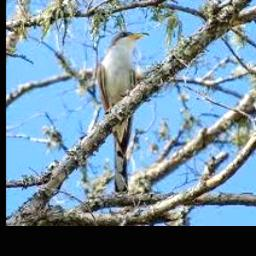Cuckoo: (97, 31, 147, 198)
